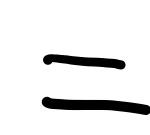eqv: (42, 54, 150, 115)
